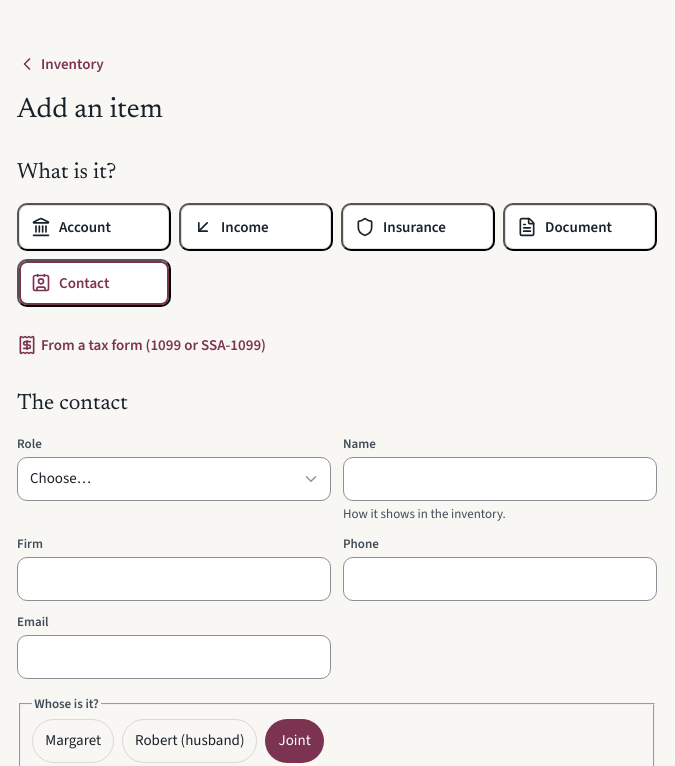
Test: Item form › a contact has no How sure question and the server's refusal is shown
Expected: the dropdown labelled "Role" is shown, top-left (17, 457), bottom-right (331, 501)
In the field labelled "Name": (500, 479) top-left (343, 457), bottom-right (657, 501), type "Linda Park"
(page scrolled)
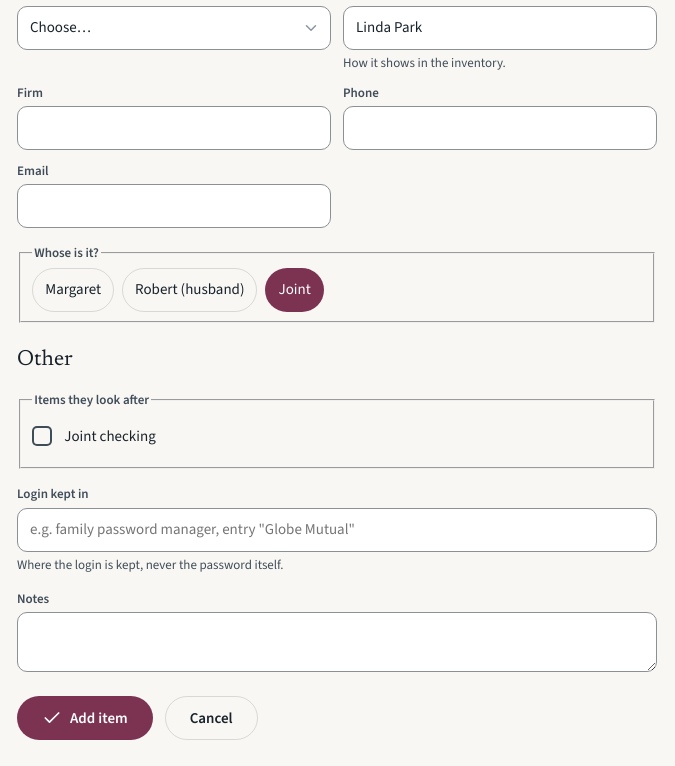
Click the button "Add item": (85, 718) top-left (17, 696), bottom-right (153, 740)
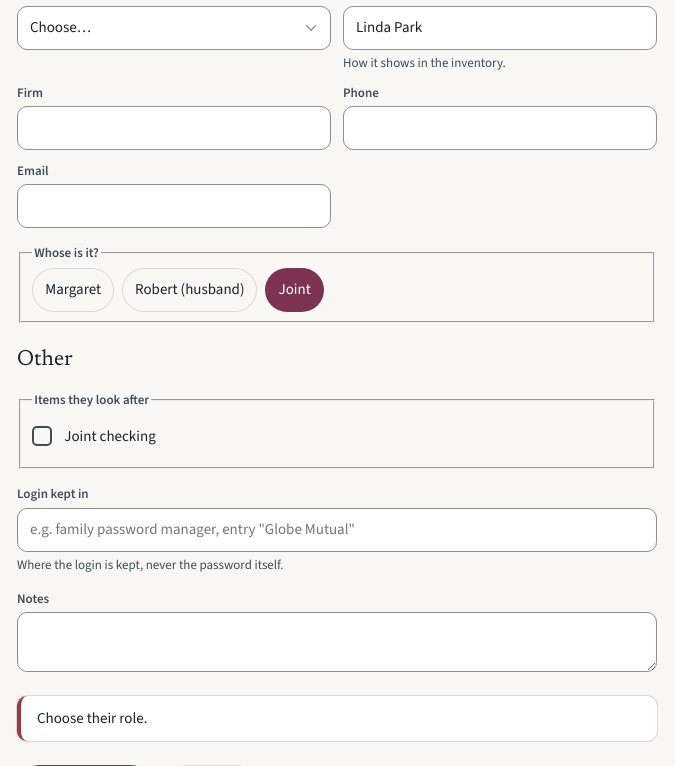
Expected: the text "Choose their role." is shown, top-left (17, 696), bottom-right (657, 741)
